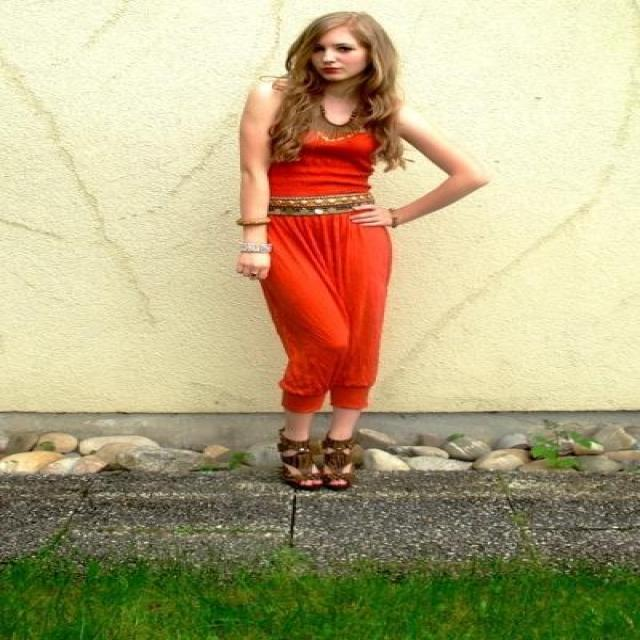dress: (258, 119, 390, 413)
shoe: (270, 433, 362, 493)
